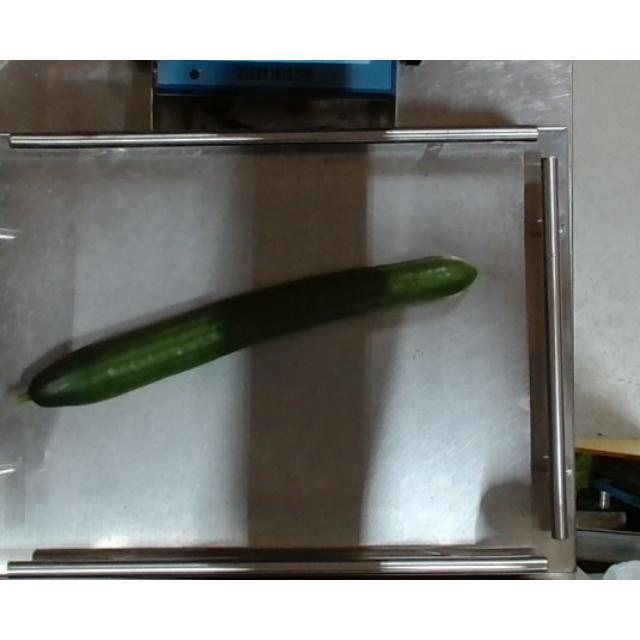cucumber: (14, 255, 478, 410)
